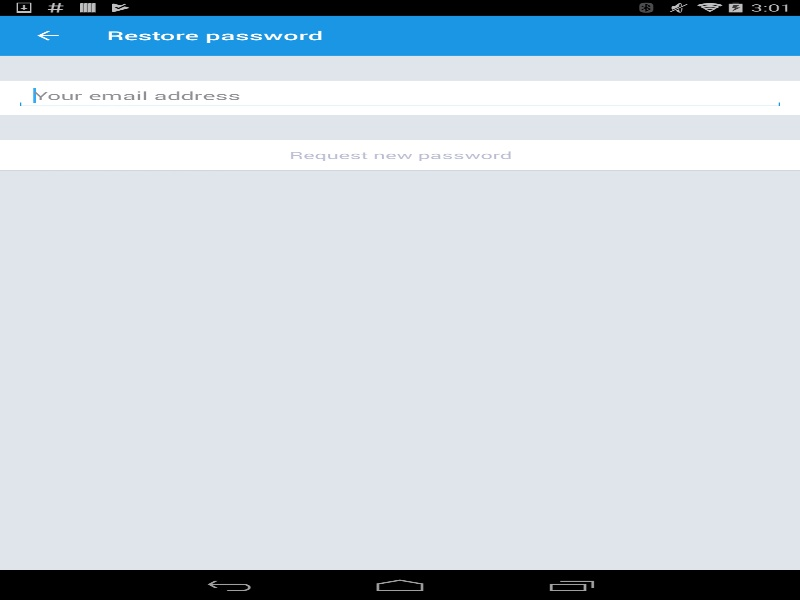Button: (0, 140, 800, 170), (10, 15, 85, 55)
Input: (33, 88, 766, 103)
